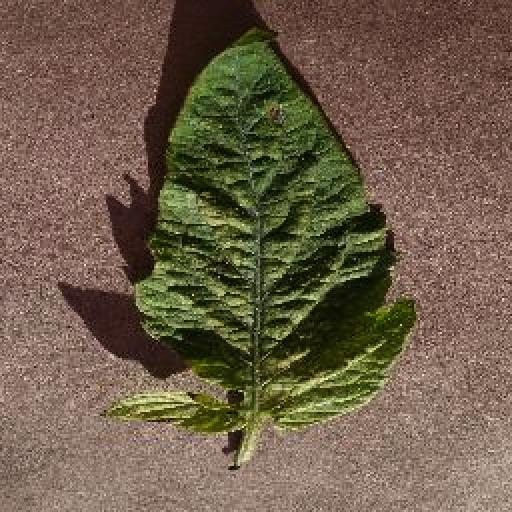disease_tomato: (102, 24, 420, 432)
